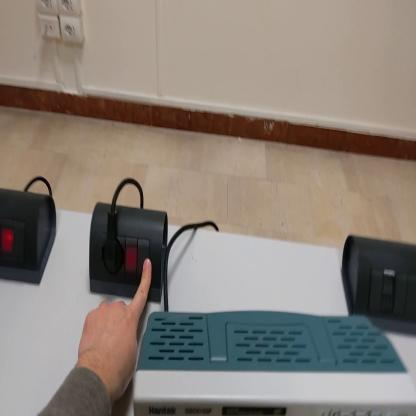hand: (77, 257, 155, 401)
oscilloscope: (133, 311, 416, 416)
socket: (91, 205, 170, 303), (1, 188, 58, 290)
